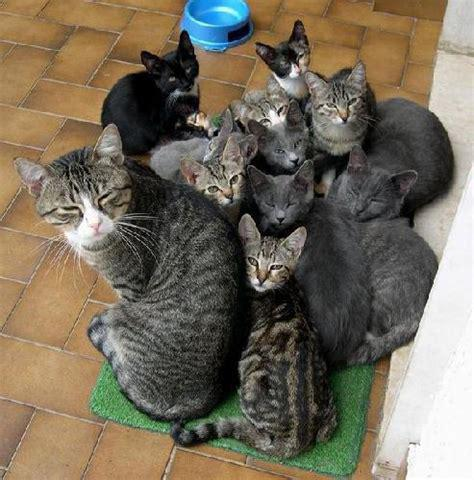cat: (13, 125, 238, 418), (172, 214, 337, 458), (247, 161, 370, 362), (345, 97, 454, 221), (90, 30, 198, 154), (304, 61, 374, 155), (180, 135, 246, 211), (255, 19, 311, 97), (248, 100, 310, 169), (231, 89, 290, 128)
